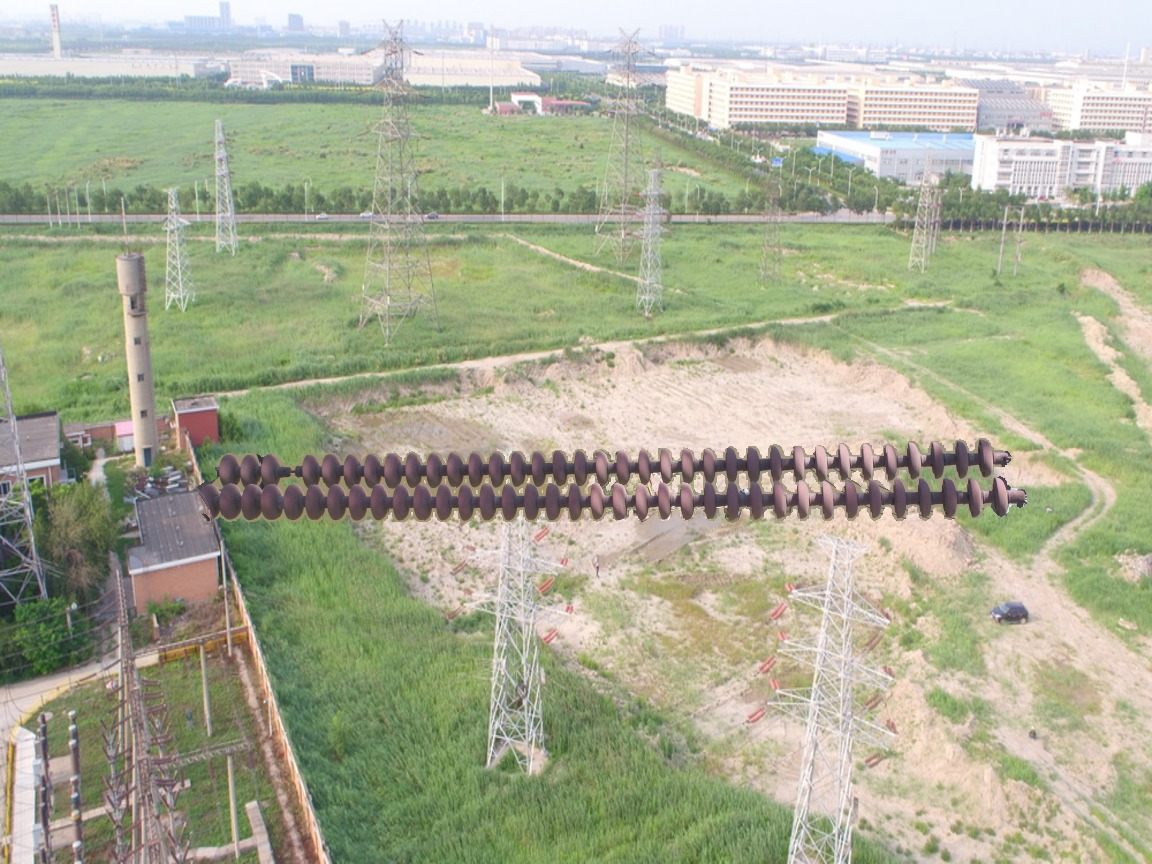defect: (256, 451, 323, 486)
